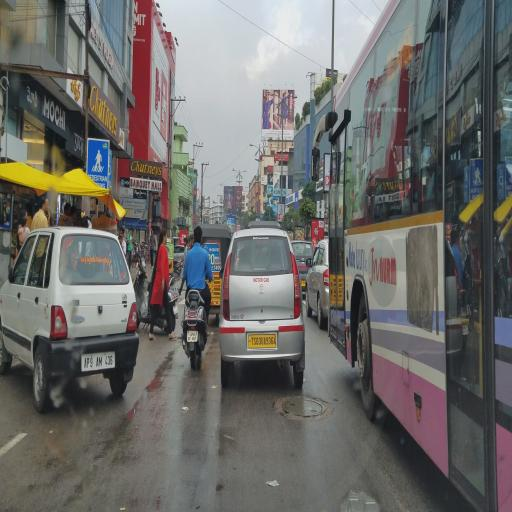street_light_0: (260, 134, 274, 160), (244, 133, 258, 159), (238, 160, 250, 180), (227, 162, 238, 182)
